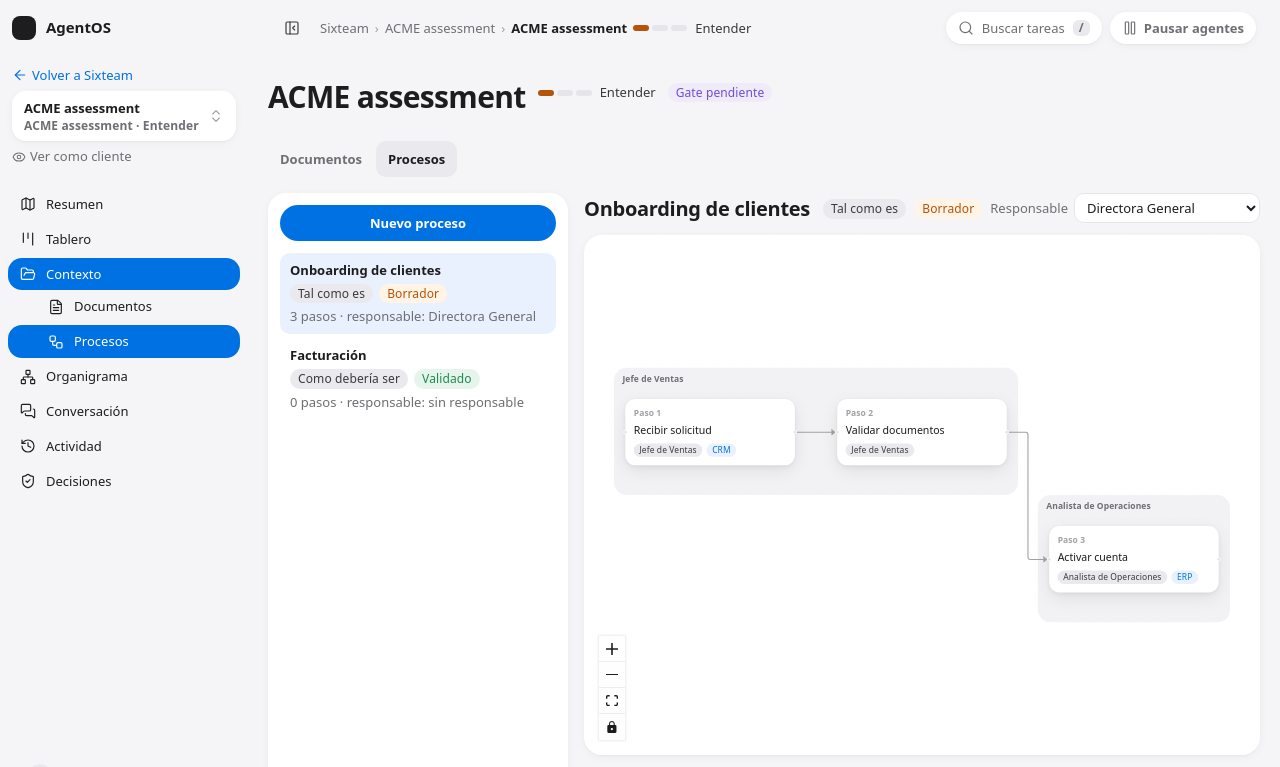
it: procesos del cliente › pulsar un paso abre el panel con su texto y su responsable
The image size is (1280, 767).
Click the element with test id "step-node-0": (710, 432) [625, 399, 795, 466]
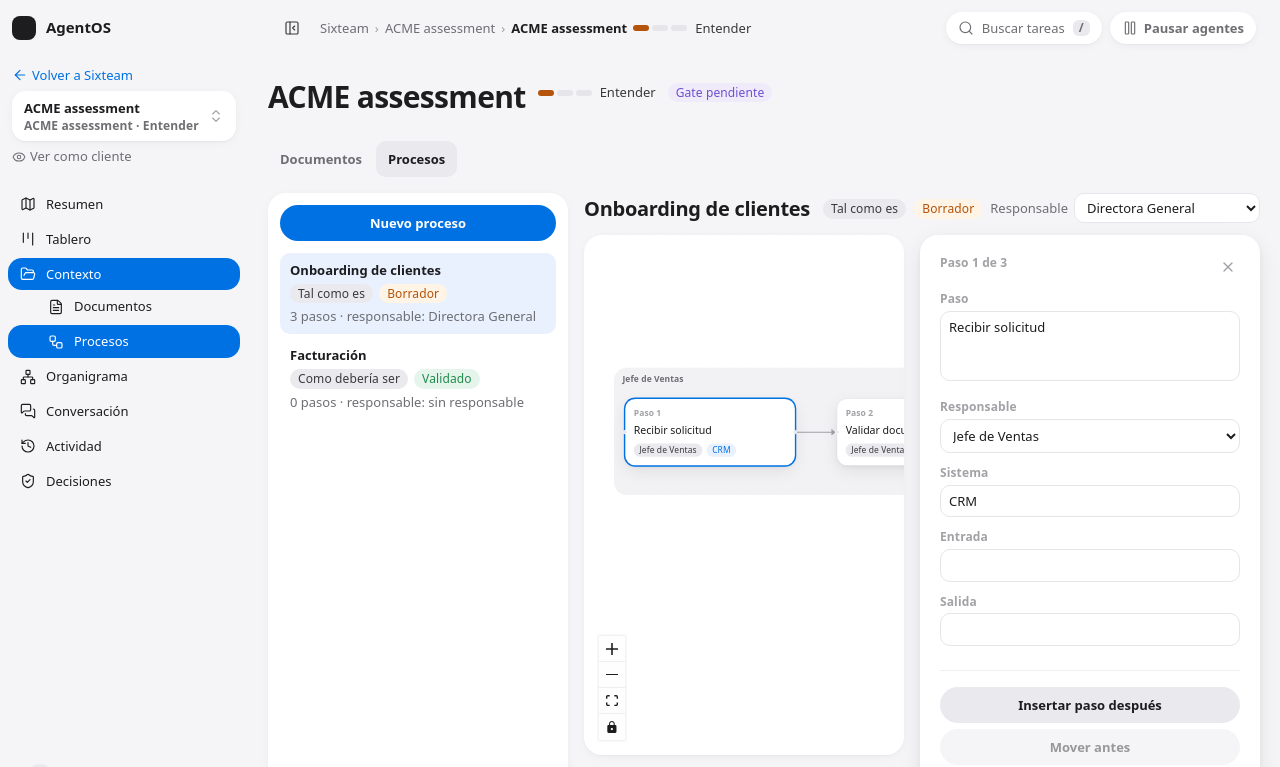
Expected: the text box showing "Recibir solicitud" is shown, [940, 311, 1240, 381]
Expected: the dropdown showing "Jefe de Ventas" next to "Validar documentos" is shown, [940, 419, 1240, 453]
